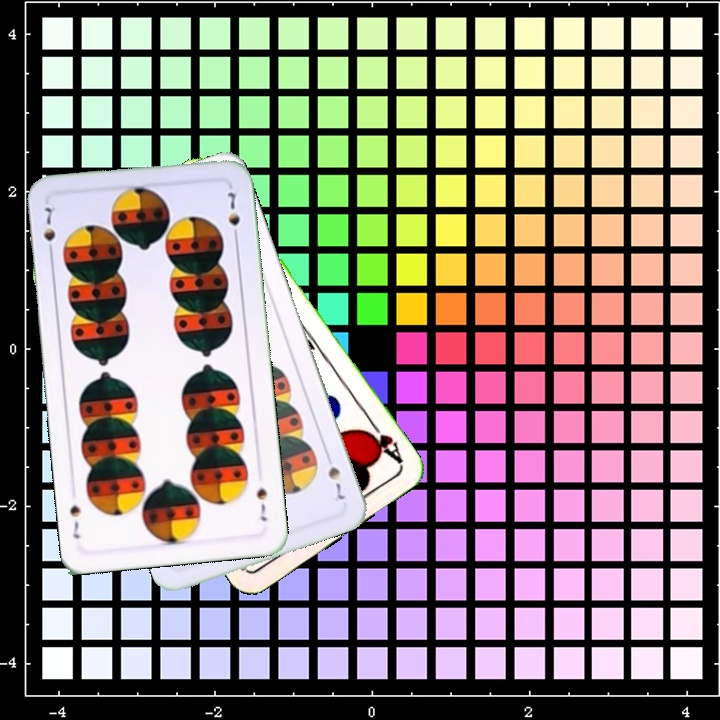HA: (360, 416, 406, 468)
S7: (321, 448, 348, 506), (39, 203, 58, 259), (252, 484, 270, 524)
